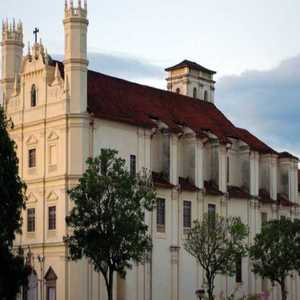francis assisi: (1, 1, 299, 299)
